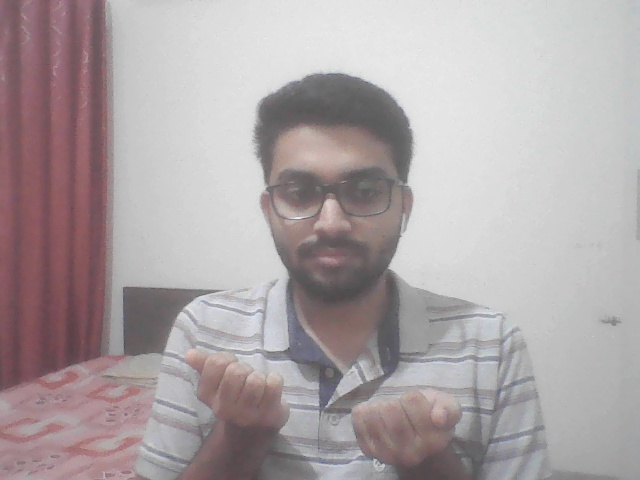want: (168, 320, 486, 473)
